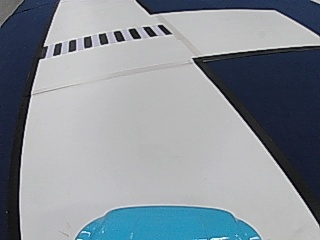CrossWalk: (45, 24, 167, 56)
